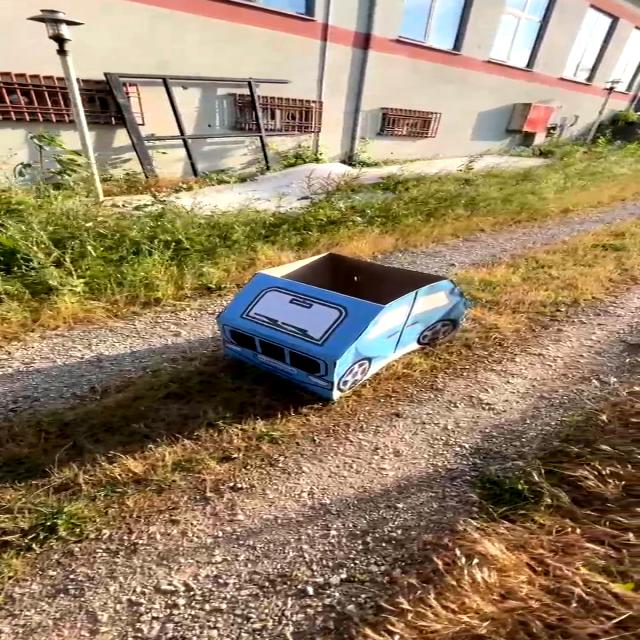blue_car: (177, 237, 495, 418)
